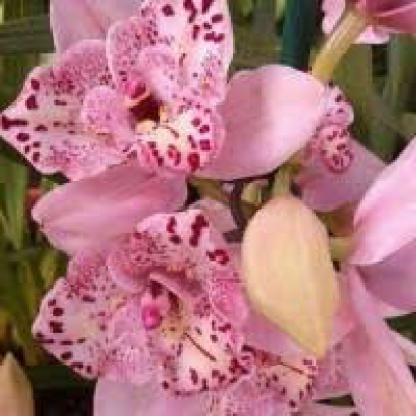ANGGREK: (22, 18, 396, 396)
